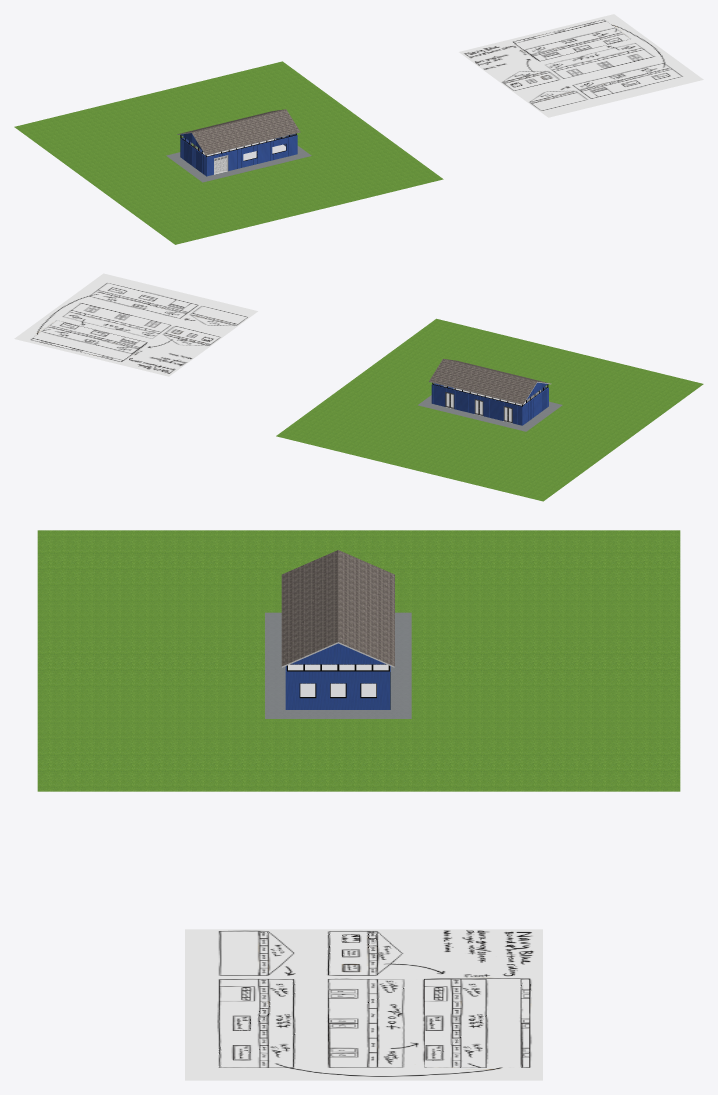
File: Garage.glb
3 renders of one model, top to bottom at view 1: azimuth 30°, elevation 25°; view 2: azimuth 150°, elevation 25°; view 3: azimuth 270°, elevation 25°, orthographic. The views are drawn at different scales.
Parts seen in each view (by area): view 1: Geom3D_1202, Geom3D_1203, Geom3D_1196, Geom3D_1205, Geom3D_1201, Geom3D_19, Geom3D_24; view 2: Geom3D_1202, Geom3D_1203, Geom3D_1196, Geom3D_1205, Geom3D_1201, Geom3D_21, Geom3D_24, Geom3D__1200; view 3: Geom3D_1202, Geom3D_1203, Geom3D_1196, Geom3D_1201, Geom3D_1205, Geom3D__1200, Geom3D_24.
Boxes of the visible parts, x1=… form: Geom3D_1202: x1=14, y1=61, x2=443, y2=244; Geom3D_1203: x1=459, y1=14, x2=703, y2=117; Geom3D_1196: x1=179, y1=109, x2=300, y2=154; Geom3D_1205: x1=180, y1=133, x2=297, y2=176; Geom3D_1201: x1=166, y1=136, x2=311, y2=182; Geom3D_19: x1=206, y1=135, x2=297, y2=176; Geom3D_24: x1=180, y1=134, x2=206, y2=176; Geom3D_1202: x1=276, y1=318, x2=703, y2=501; Geom3D_1203: x1=14, y1=273, x2=257, y2=376; Geom3D_1196: x1=429, y1=359, x2=550, y2=404; Geom3D_1205: x1=432, y1=382, x2=548, y2=425; Geom3D_1201: x1=418, y1=385, x2=562, y2=431; Geom3D_21: x1=431, y1=385, x2=522, y2=425; Geom3D_24: x1=523, y1=383, x2=548, y2=424; Geom3D__1200: x1=446, y1=388, x2=525, y2=422; Geom3D_1202: x1=37, y1=530, x2=680, y2=791; Geom3D_1203: x1=185, y1=929, x2=542, y2=1080; Geom3D_1196: x1=281, y1=550, x2=394, y2=666; Geom3D_1201: x1=265, y1=612, x2=411, y2=718; Geom3D_1205: x1=286, y1=643, x2=390, y2=709; Geom3D__1200: x1=288, y1=664, x2=388, y2=696; Geom3D_24: x1=285, y1=644, x2=388, y2=709.
Size of the model in its own units: 94.69 by 5.6 by 46.74.
Materials: 19 (13 with a texture image).
